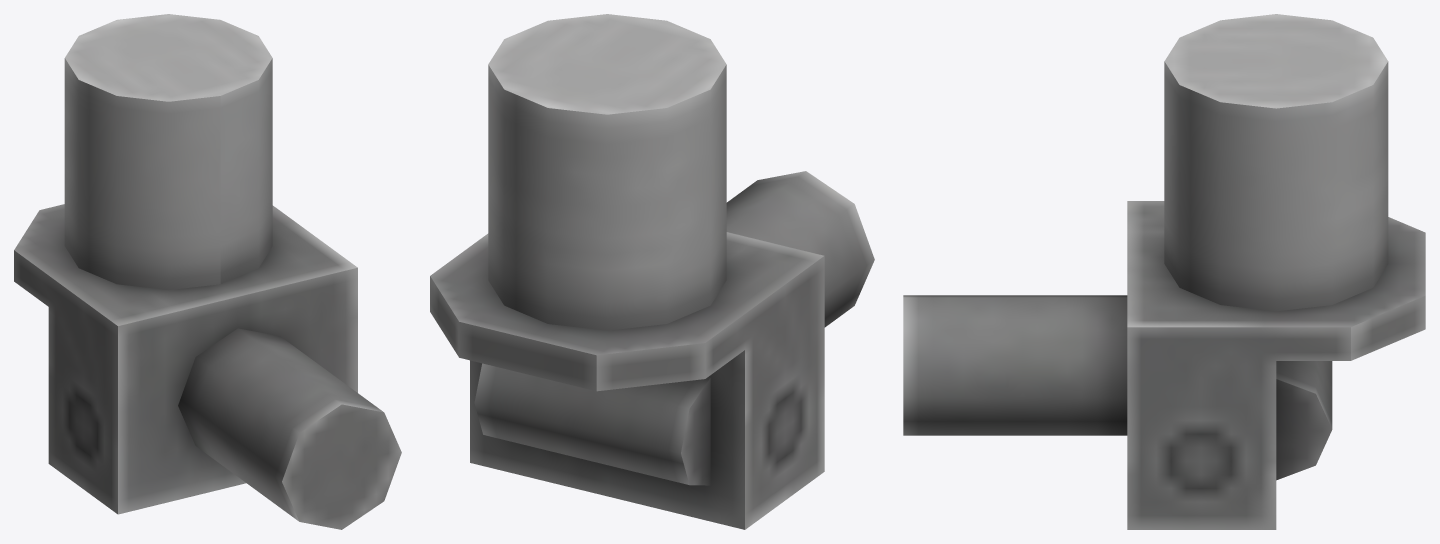
The model's file is 4mv_vl_sensor_accelerometer_srf_1.obj.
3 renders of one model, left to right at view 1: azimuth 30°, elevation 25°; view 2: azimuth 150°, elevation 25°; view 3: azimuth 270°, elevation 25°, orthographic. The views are drawn at different scales.
Parts seen in each view (by area): view 1: mesh1; view 2: mesh1; view 3: mesh1.
Part boxes in pixels (x1,y1,x2,y2): mesh1: (14,14,401,529); mesh1: (430,14,874,529); mesh1: (903,14,1425,529).
Bounding box in the file's own units: 0.1 × 0.15 × 0.175.
Materials: 1 (1 with a texture image).
